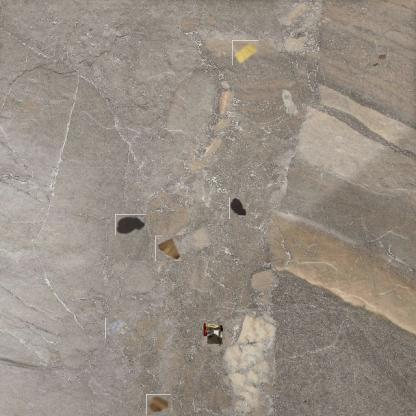dirty: (155, 235, 182, 261), (232, 40, 259, 65), (201, 322, 225, 347), (146, 394, 171, 415), (280, 90, 300, 116), (105, 318, 130, 338), (370, 47, 390, 67)
liquid: (115, 214, 146, 235), (229, 197, 246, 219)
